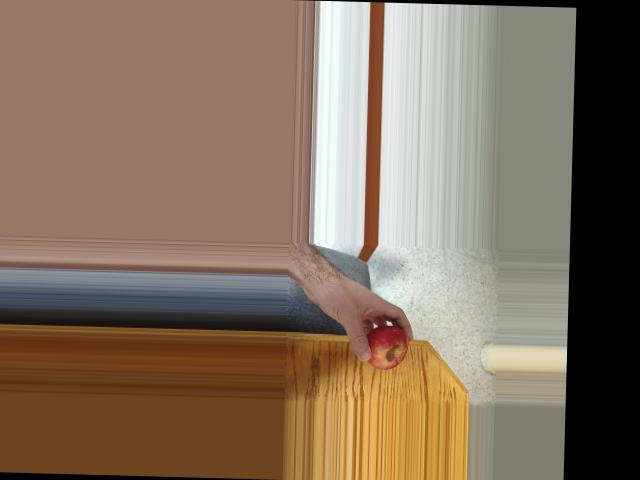apple: (358, 323, 409, 370)
